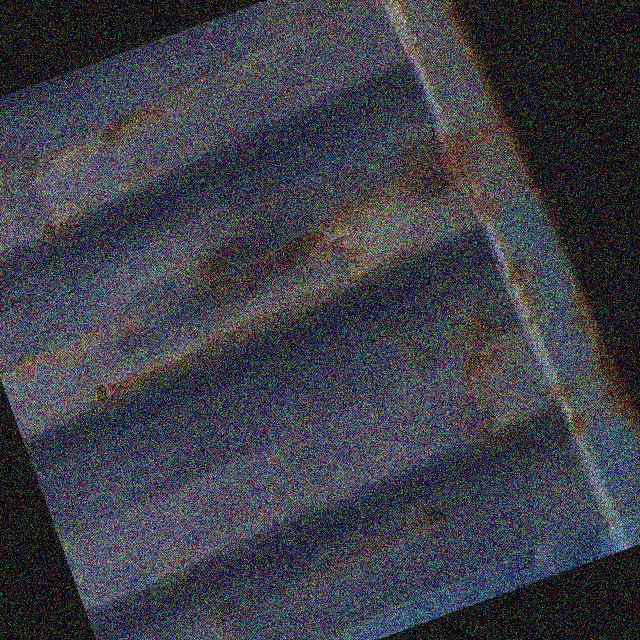Dent: (86, 132, 389, 386)
